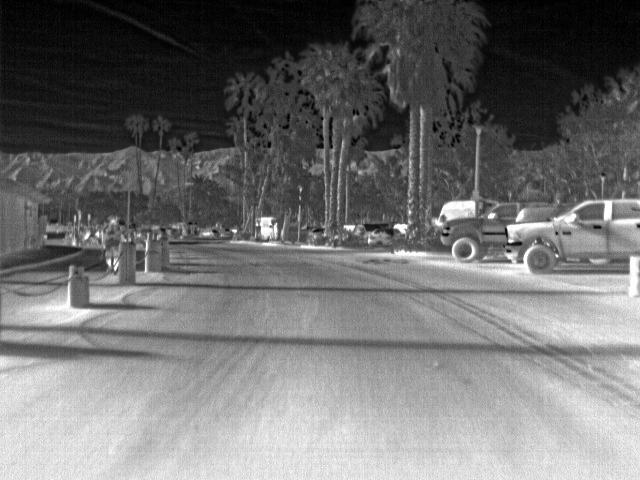car: (505, 196, 640, 274), (438, 198, 517, 260), (518, 201, 566, 220), (368, 226, 402, 245), (355, 223, 379, 239), (308, 224, 324, 243), (342, 223, 362, 237)
person: (103, 217, 122, 276)
